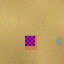person: (56, 36, 62, 45)
structure: (43, 3, 59, 24)
